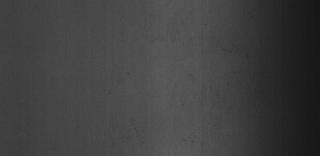silk spot: (138, 25, 252, 72), (156, 91, 238, 145)
